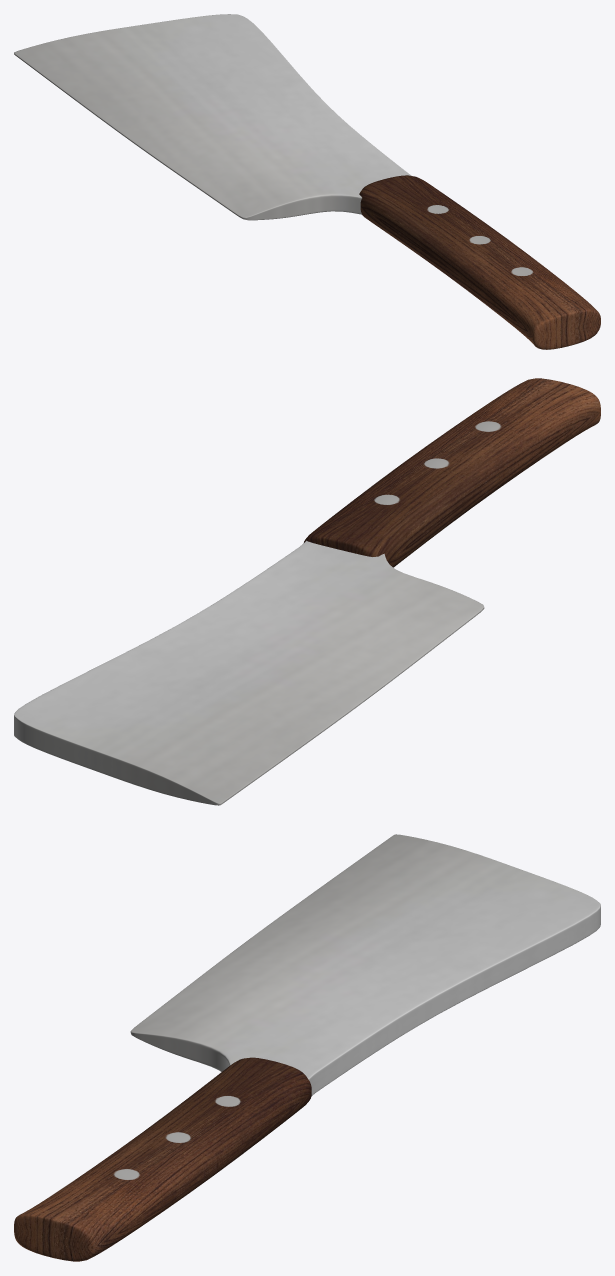
Rendered from Cleaver.fbx.
3 renders of one model, top to bottom at view 1: azimuth 30°, elevation 25°; view 2: azimuth 150°, elevation 25°; view 3: azimuth 330°, elevation 25°, orthographic. The views are drawn at different scales.
Visible parts, largest first — view 1: Cleaver; view 2: Cleaver; view 3: Cleaver.
Boxes of the visible parts, x1=… form: Cleaver: x1=14, y1=14, x2=600, y2=349; Cleaver: x1=14, y1=378, x2=600, y2=805; Cleaver: x1=14, y1=834, x2=600, y2=1261.
Bounding box in the file's own units: 74.72 × 11.59 × 268.
Materials: 1 (1 with a texture image).
